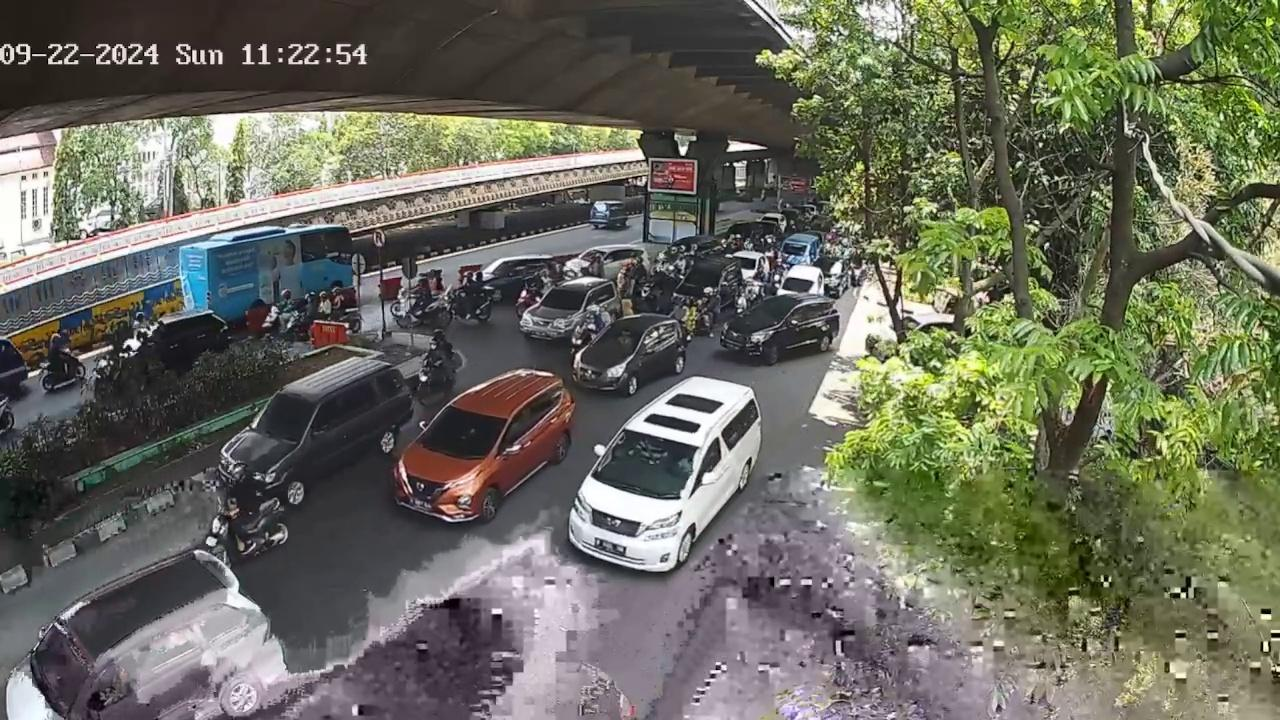pakai: (635, 433, 666, 470), (617, 332, 634, 348)
windshield: (589, 424, 701, 500), (413, 404, 506, 457), (256, 390, 313, 439), (593, 322, 645, 352), (538, 286, 589, 312), (682, 267, 722, 288)
